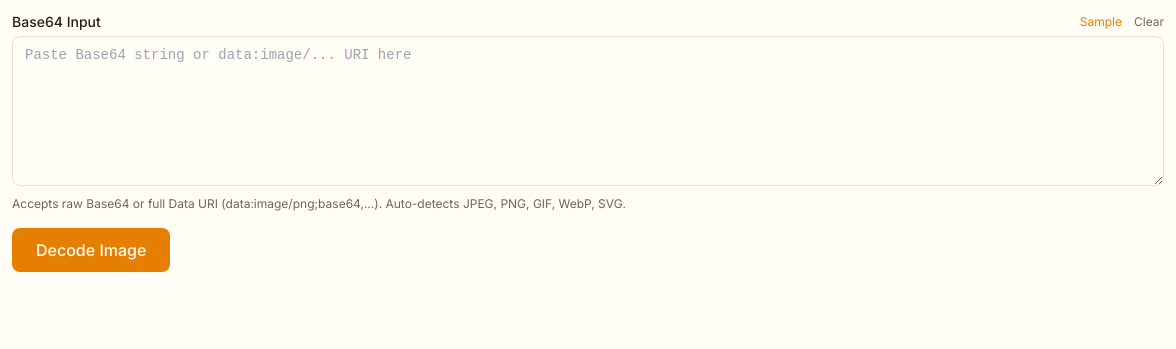
Base64ToImage › shows error for invalid base64
Replace the text in the text box labelled "Paste Base64 string or d ata:image/... URI here" with "!!!invalid!!!": (588,111) [12,36,1164,186]
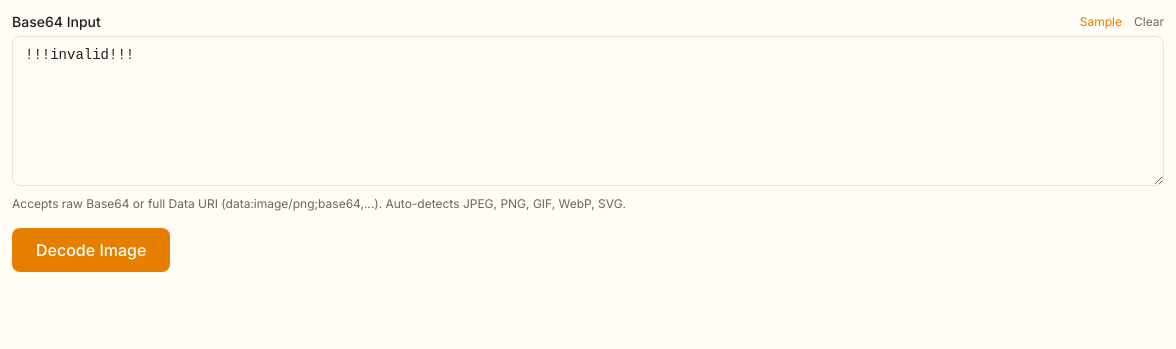
Click the button "Decode Image": (91,250) [12,228,170,272]
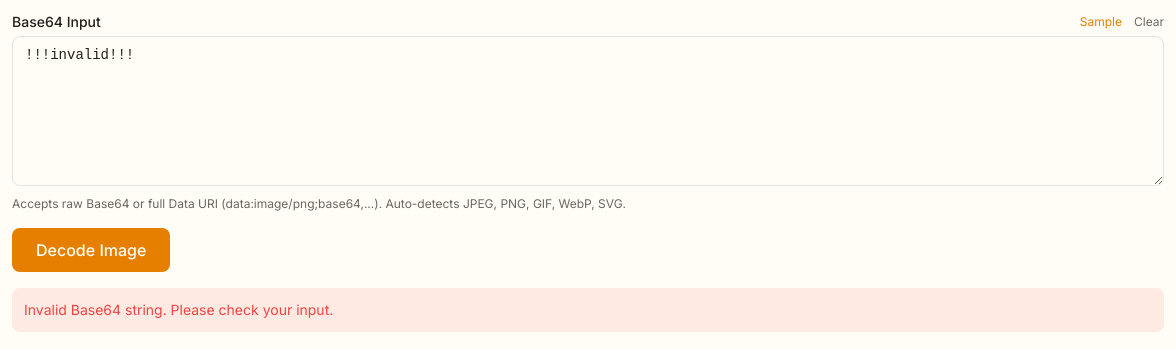
Expected: the text "Invalid Base64 string. Please check your input." is shown, [12,288,1164,332]
